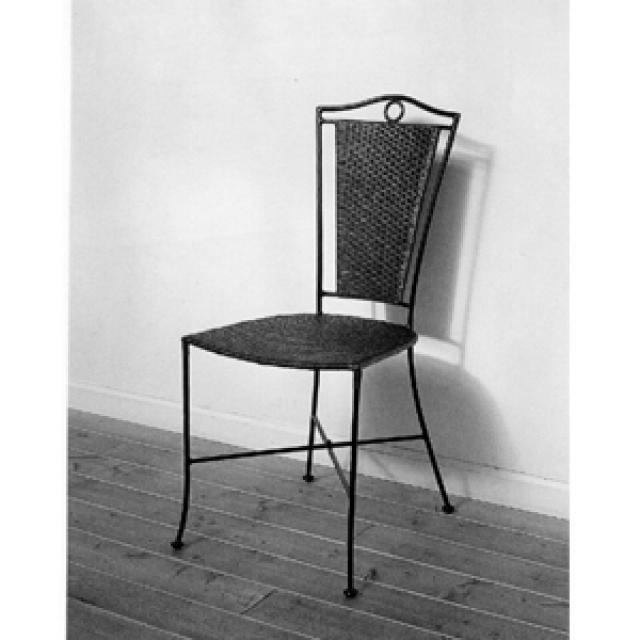chair: (167, 87, 465, 604)
